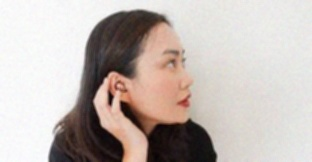earphone: (108, 71, 130, 102)
